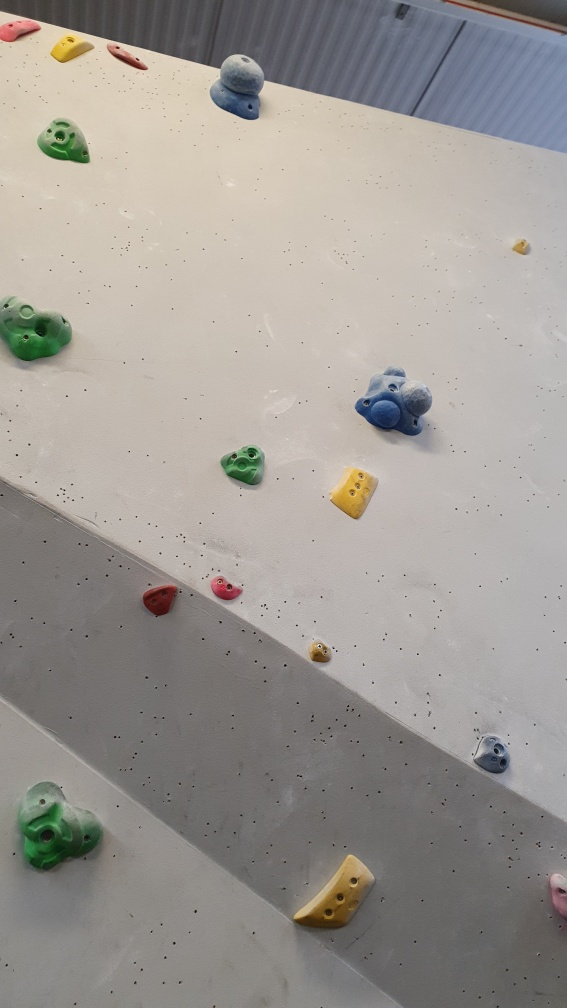Crimp: (288, 847, 375, 936), (330, 462, 380, 520), (106, 40, 154, 81)
Jug: (16, 780, 113, 882), (1, 288, 76, 373), (37, 112, 96, 173), (218, 438, 267, 487)
Pinch: (50, 35, 97, 71)
Sloper: (352, 362, 435, 440), (206, 47, 266, 121)
